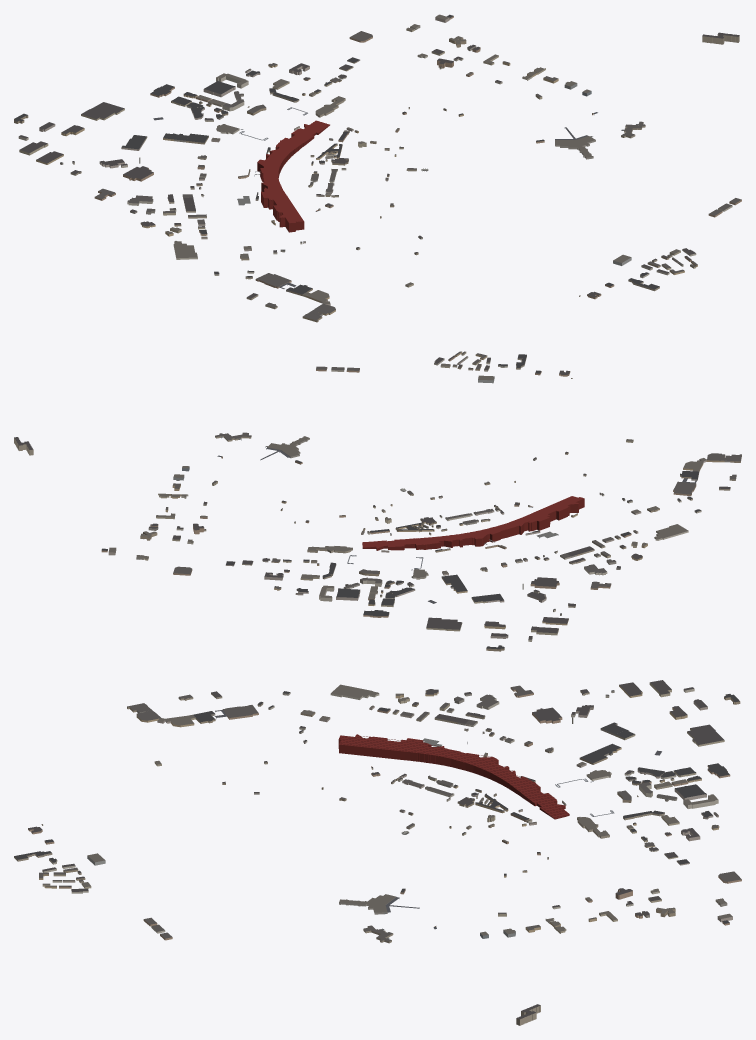
File: scenery.glb
3 views of the same model, one above another, from view 1: azimuth 30°, elevation 25°; view 2: azimuth 150°, elevation 25°; view 3: azimuth 270°, elevation 25° (orthographic). The views are drawn at different scales.
Visible parts, largest first — view 1: chunk_13_13, chunk_12_16, chunk_12_12, chunk_12_14, chunk_12_13, chunk_13_12, chunk_13_11, chunk_14_12, chunk_14_11, chunk_14_13, chunk_15_17, chunk_16_12 (+2 smaller); view 2: chunk_13_13, chunk_12_16, chunk_12_12, chunk_12_14, chunk_12_13, chunk_13_12, chunk_13_11, chunk_14_12, chunk_14_13, chunk_14_11, chunk_16_12, chunk_15_12 (+1 smaller); view 3: chunk_13_13, chunk_12_16, chunk_12_14, chunk_12_12, chunk_12_13, chunk_13_12, chunk_13_11, chunk_14_12, chunk_14_11, chunk_14_13, chunk_15_17, chunk_16_12 (+2 smaller).
Boxes of the visible parts, x1,y1,x2,y2 form: chunk_13_13: (197,120,329,232); chunk_12_16: (246,273,335,322); chunk_12_12: (19,125,147,175); chunk_12_14: (140,201,207,259); chunk_12_13: (94,166,204,213); chunk_13_12: (153,101,239,144); chunk_13_11: (81,84,197,120); chunk_14_12: (206,79,307,129); chunk_14_11: (195,68,260,102); chunk_14_13: (239,126,376,165); chunk_15_17: (587,254,669,299); chunk_16_12: (417,36,498,76); chunk_13_13: (362,496,584,571); chunk_12_16: (673,453,741,495); chunk_12_12: (471,583,575,635); chunk_12_14: (572,524,688,564); chunk_12_13: (530,550,620,589); chunk_13_12: (380,569,467,603); chunk_13_11: (363,598,462,631); chunk_14_12: (300,555,412,594); chunk_14_13: (361,517,447,569); chunk_14_11: (295,585,375,601); chunk_16_12: (140,513,207,544); chunk_15_12: (242,546,352,572); chunk_13_13: (338,734,569,819); chunk_12_16: (127,691,258,727); chunk_12_14: (330,684,464,723); chunk_12_12: (571,680,687,740); chunk_12_13: (457,685,562,736); chunk_13_12: (576,743,676,781); chunk_13_11: (673,724,730,782); chunk_14_12: (590,779,679,825); chunk_14_11: (671,779,718,819); chunk_14_13: (457,778,588,827); chunk_15_17: (14,826,105,872); chunk_16_12: (585,888,675,921).
Bounding box in the file's own units: 3024 × 46.48 × 2708.
